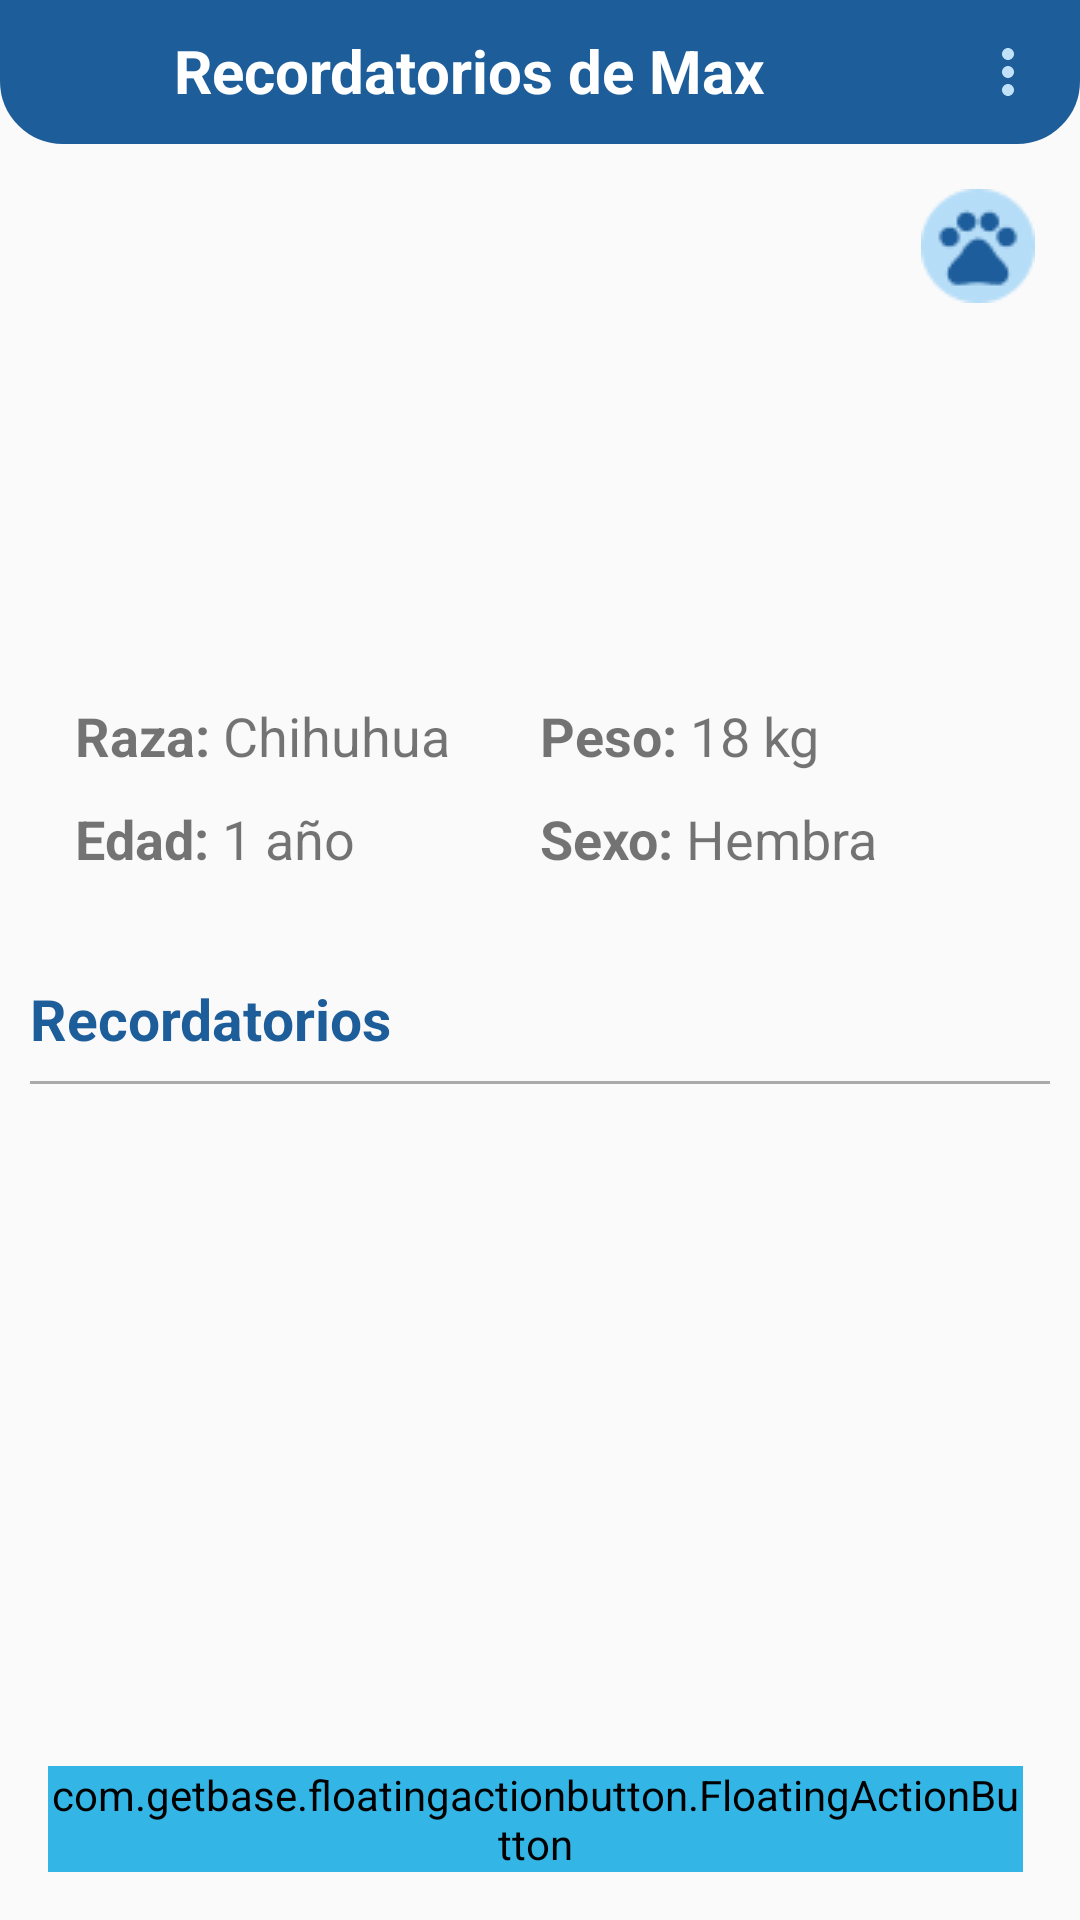

Point at icon controls on the screen. Image size 1080×1920, points as [x,y].
Pet type icon: [978,246]
